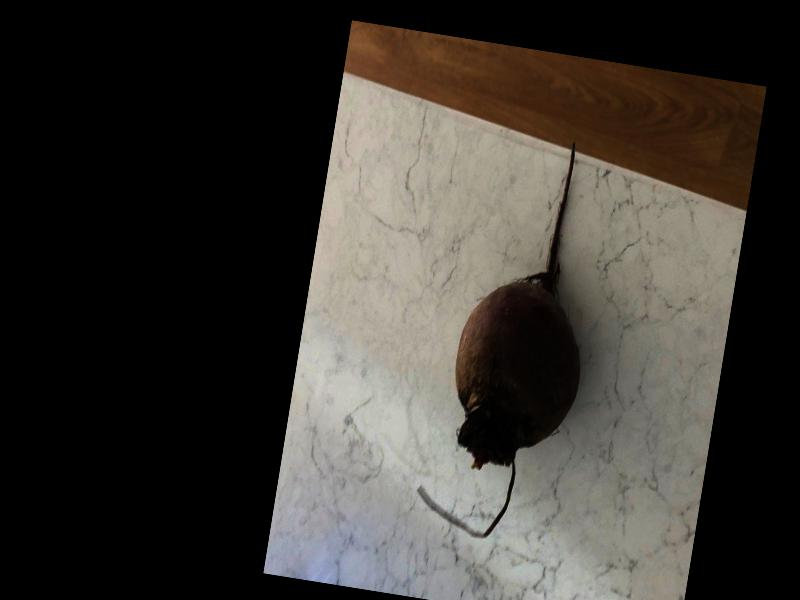Beet: (412, 125, 616, 547)
